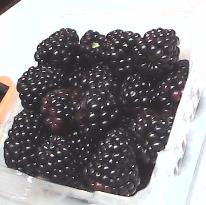berry: (85, 127, 141, 196), (76, 87, 121, 136), (134, 28, 182, 73), (132, 108, 170, 164), (17, 66, 65, 108), (41, 89, 83, 135), (37, 135, 78, 182), (36, 28, 79, 72), (156, 59, 188, 113), (106, 29, 141, 75), (120, 73, 157, 116), (5, 134, 39, 174), (9, 109, 49, 142), (67, 129, 98, 168), (88, 61, 120, 95), (78, 31, 107, 62)
